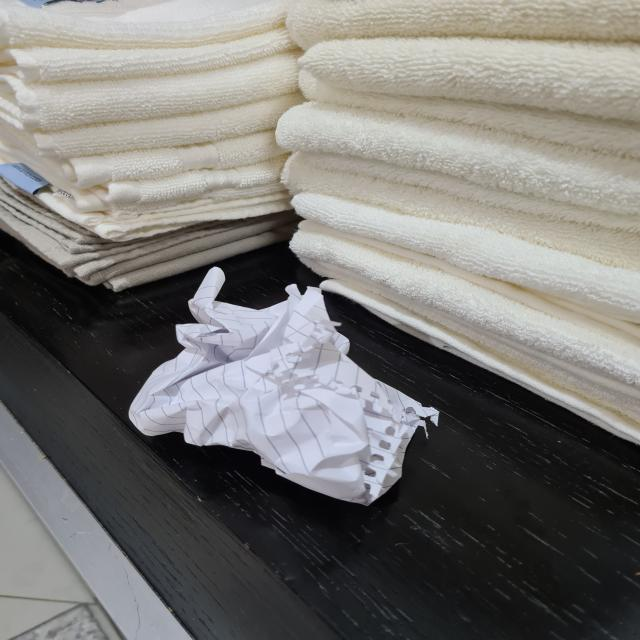Paper: (137, 265, 453, 512)
